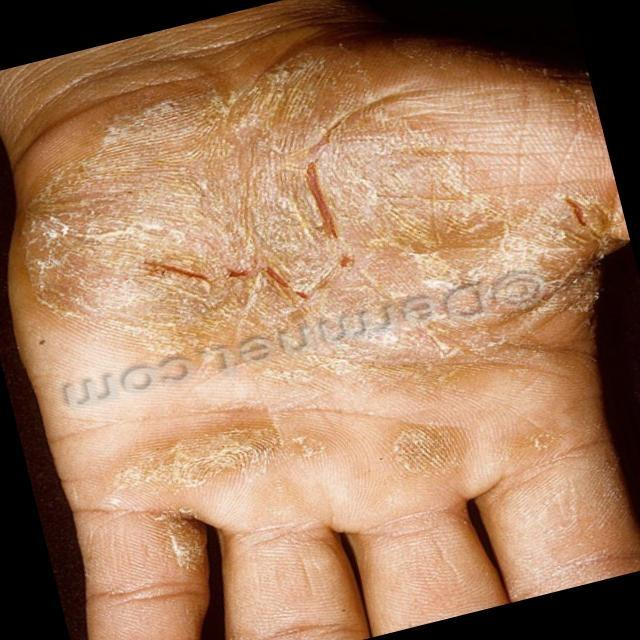Eczema: (0, 50, 628, 549)
